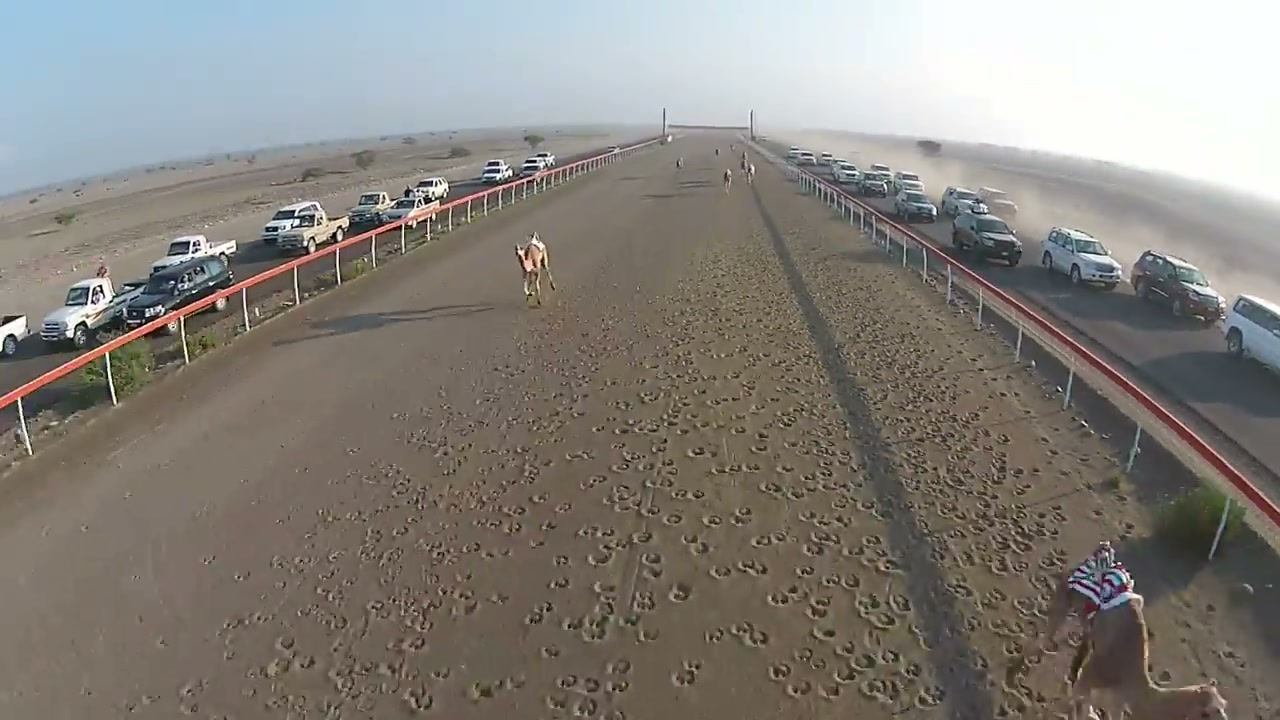animal_footprint: (127, 173, 1148, 719)
